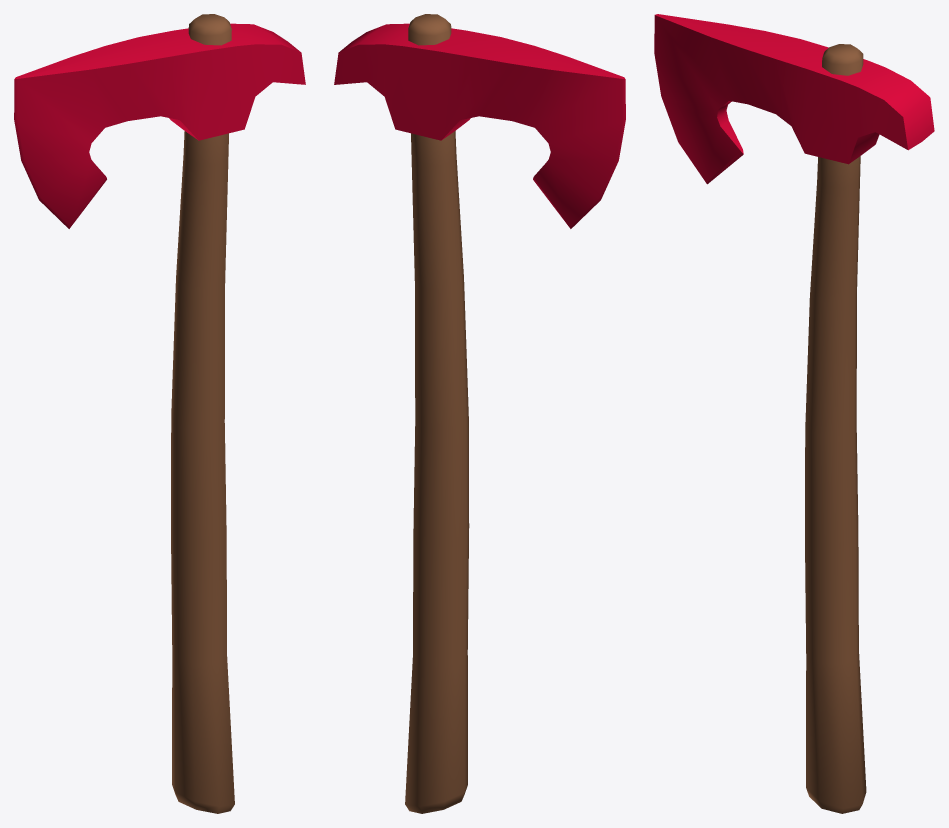
File: Machado.fbx
3 views of the same model, side by side, from view 1: azimuth 30°, elevation 25°; view 2: azimuth 150°, elevation 25°; view 3: azimuth 330°, elevation 25° (orthographic). The views are drawn at different scales.
Visible parts, largest first — view 1: Machado_low; view 2: Machado_low; view 3: Machado_low.
Boxes of the visible parts, x1,y1,x2,y2 form: Machado_low: (14,14,305,813); Machado_low: (334,14,625,813); Machado_low: (654,14,934,813).
Size of the model in its own units: 12.33 by 33.28 by 2.51.
